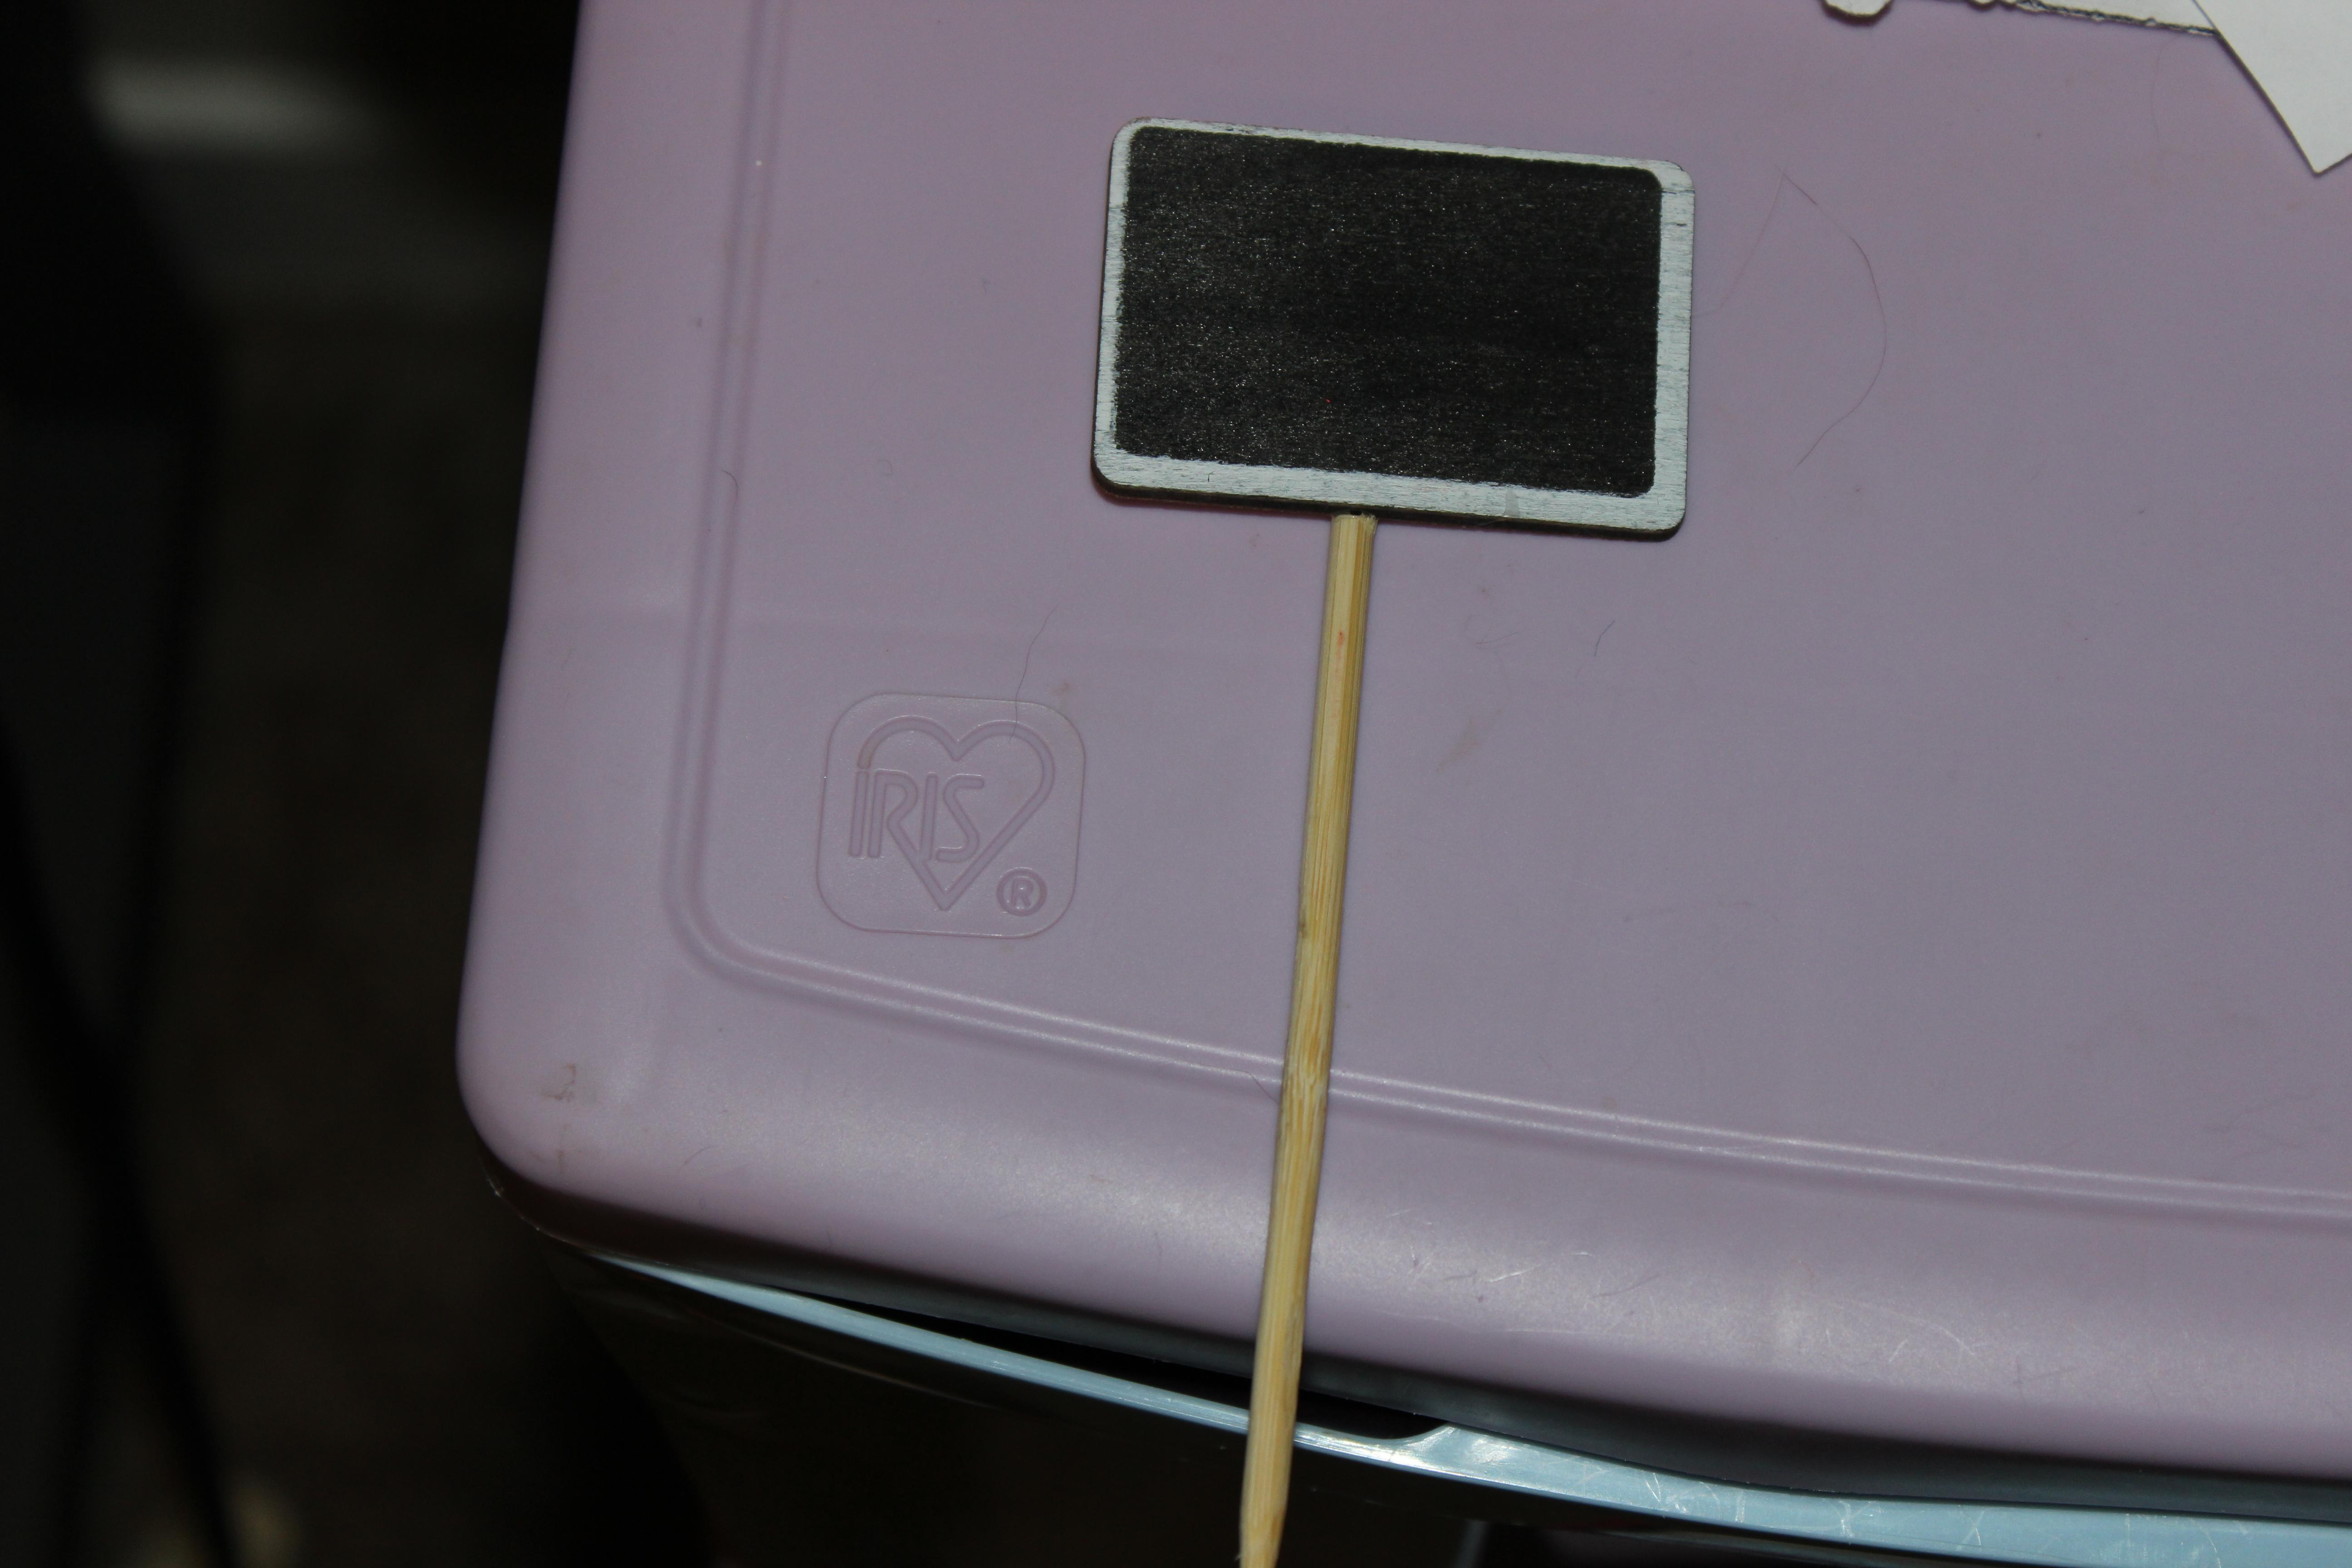sign: (1036, 86, 1726, 1566)
